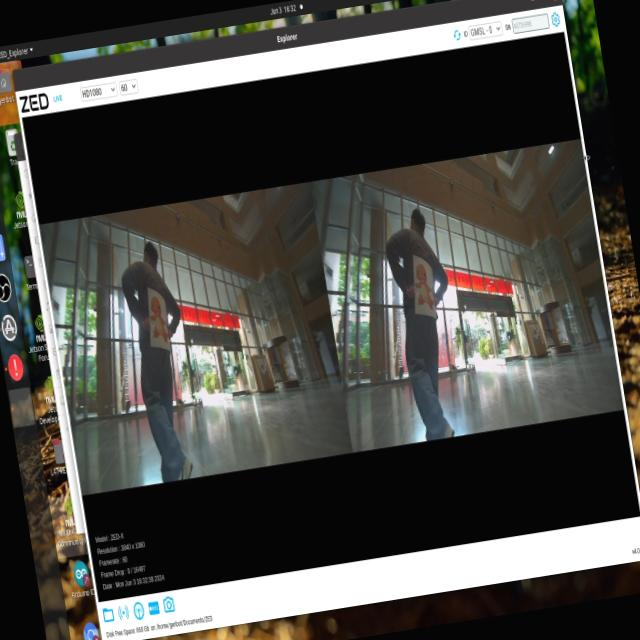red: (400, 254, 448, 328), (136, 288, 176, 348)
